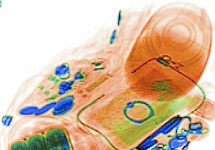powerbank: (6, 123, 73, 149)
